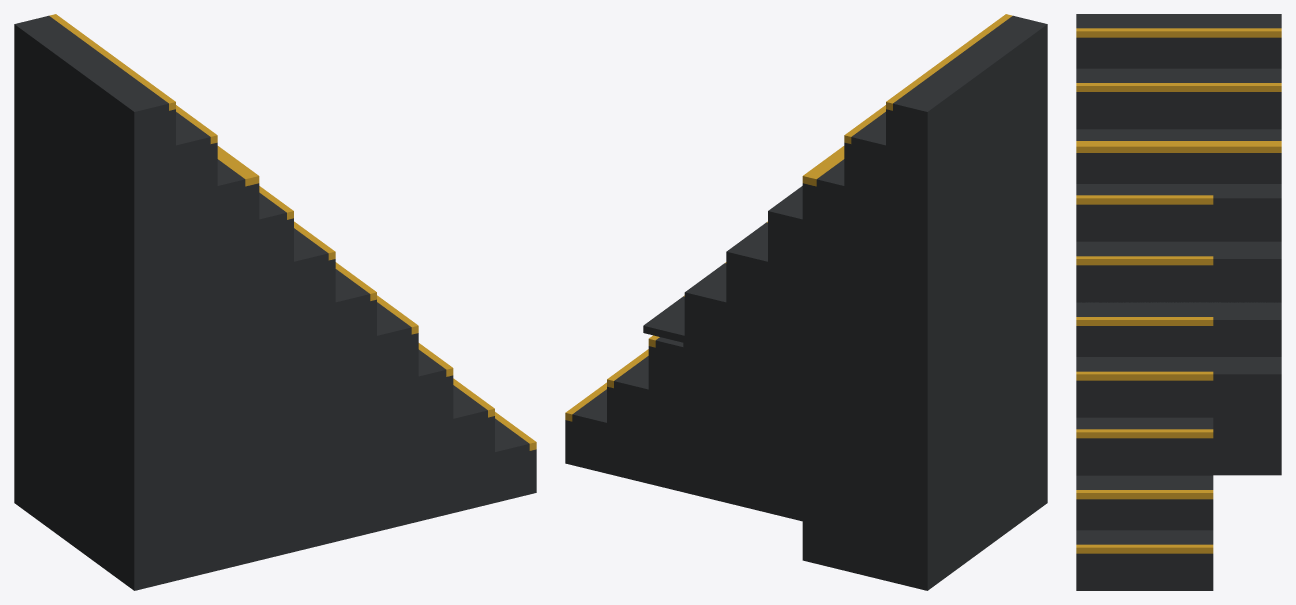
File: double_decker_stairs.glb
3 views of the same model, side by side, from view 1: azimuth 30°, elevation 25°; view 2: azimuth 150°, elevation 25°; view 3: azimuth 270°, elevation 25° (orthographic). The views are drawn at different scales.
Visible parts, largest first — view 1: body:compound; view 2: body:compound; view 3: body:compound.
Boxes of the visible parts, x1,y1,x2,y2 form: body:compound: (14,14,536,590); body:compound: (565,14,1047,590); body:compound: (1076,14,1281,590).
Size of the model in its own units: 1.81 by 2.06 by 0.9375.
